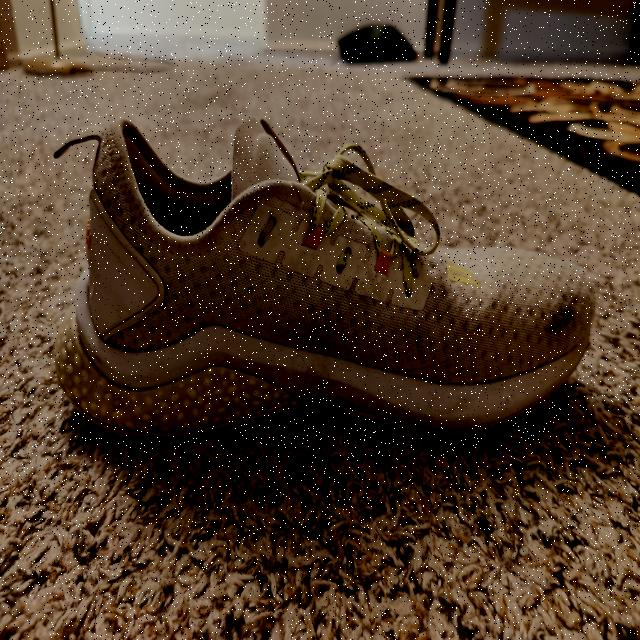white shoes: (103, 130, 598, 440)
